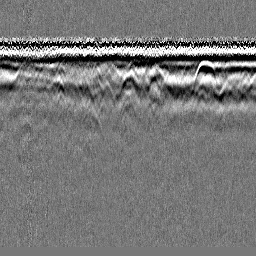cavity: (115, 68, 141, 99)
